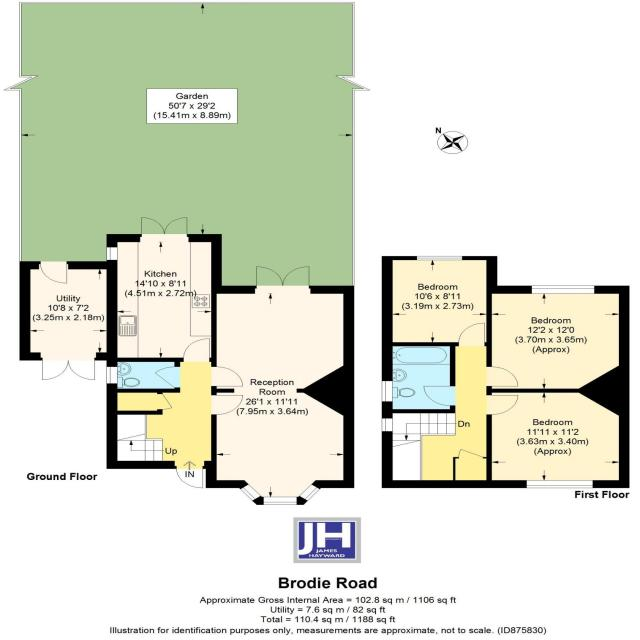DOOR: (173, 460, 205, 489), (485, 365, 519, 388), (485, 394, 520, 416), (210, 394, 244, 416), (39, 261, 69, 285), (210, 366, 244, 387), (183, 337, 211, 362), (457, 323, 486, 347), (423, 385, 456, 406), (154, 366, 180, 388)
DOUBLE DOOR: (255, 264, 313, 289), (141, 216, 189, 237)
ROOM: (205, 266, 355, 506), (106, 217, 222, 362), (486, 285, 630, 393), (486, 388, 630, 488), (381, 256, 497, 347)
WINDOW: (529, 284, 597, 295), (525, 479, 595, 489), (239, 483, 262, 502), (298, 483, 321, 502), (263, 496, 298, 505), (416, 255, 463, 261), (381, 380, 393, 402), (106, 366, 118, 384), (381, 417, 393, 432), (106, 247, 118, 261)
